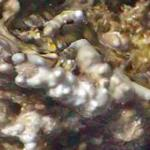alive: (1, 3, 148, 148)
